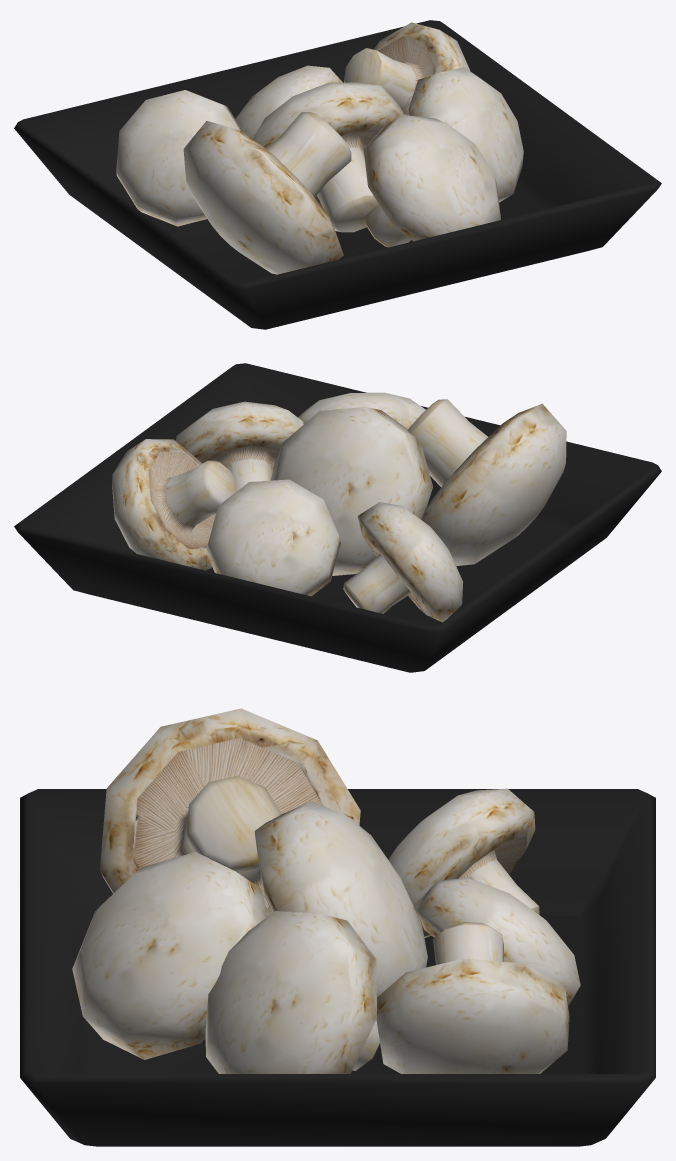
The model's file is Jamur Segar.fbx.
3 views of the same model, one above another, from view 1: azimuth 30°, elevation 25°; view 2: azimuth 150°, elevation 25°; view 3: azimuth 270°, elevation 25° (orthographic). The views are drawn at different scales.
Visible parts, largest first — view 1: Jamur Segar; view 2: Jamur Segar; view 3: Jamur Segar.
Part boxes in pixels (x1=…): Jamur Segar: x1=14, y1=20, x2=661, y2=329; Jamur Segar: x1=14, y1=363, x2=661, y2=672; Jamur Segar: x1=20, y1=708, x2=655, y2=1146.
Bounding box in the file's own units: 6.58 × 2.38 × 6.02.
2 materials, 2 textured.
